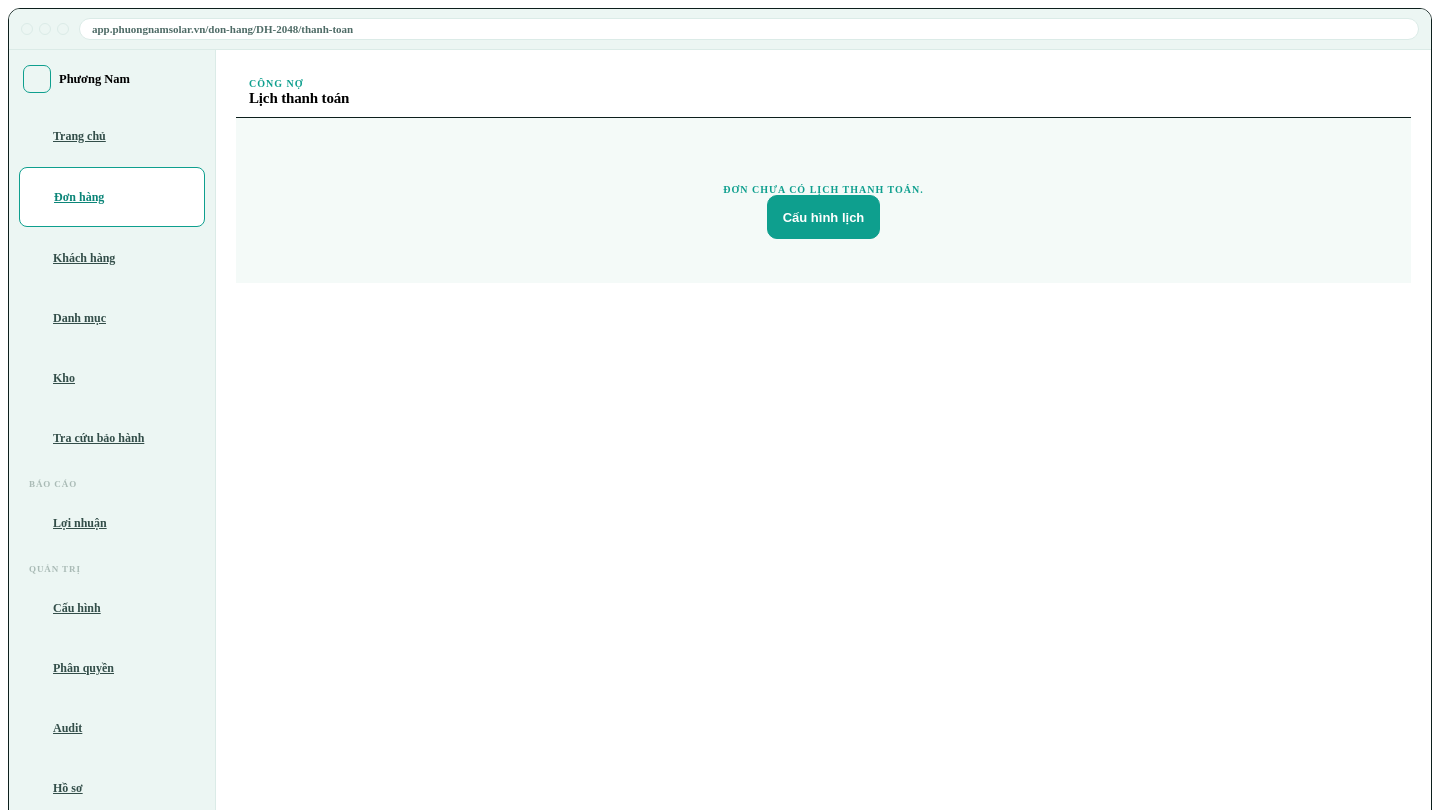
it: PaymentScheduleScreen — edit › a saved schedule that mismatches comes back with the warning banner
The width and height of the screenshot is (1440, 810).
Click the button "Cấu hình lịch".
click(824, 217)  # box [767,195,880,239]
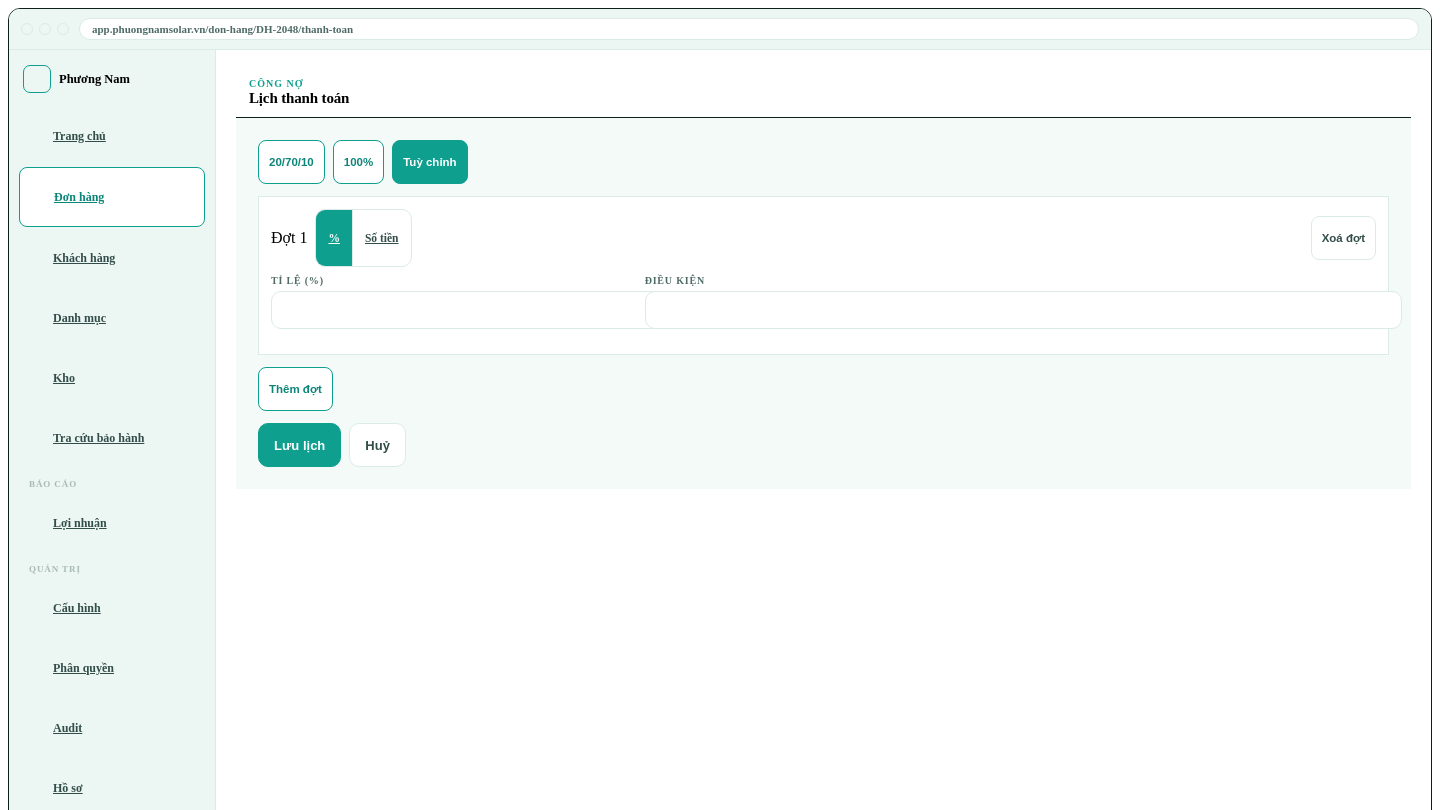
Click the button "20/70/10".
click(291, 162)  # box [258,140,325,184]
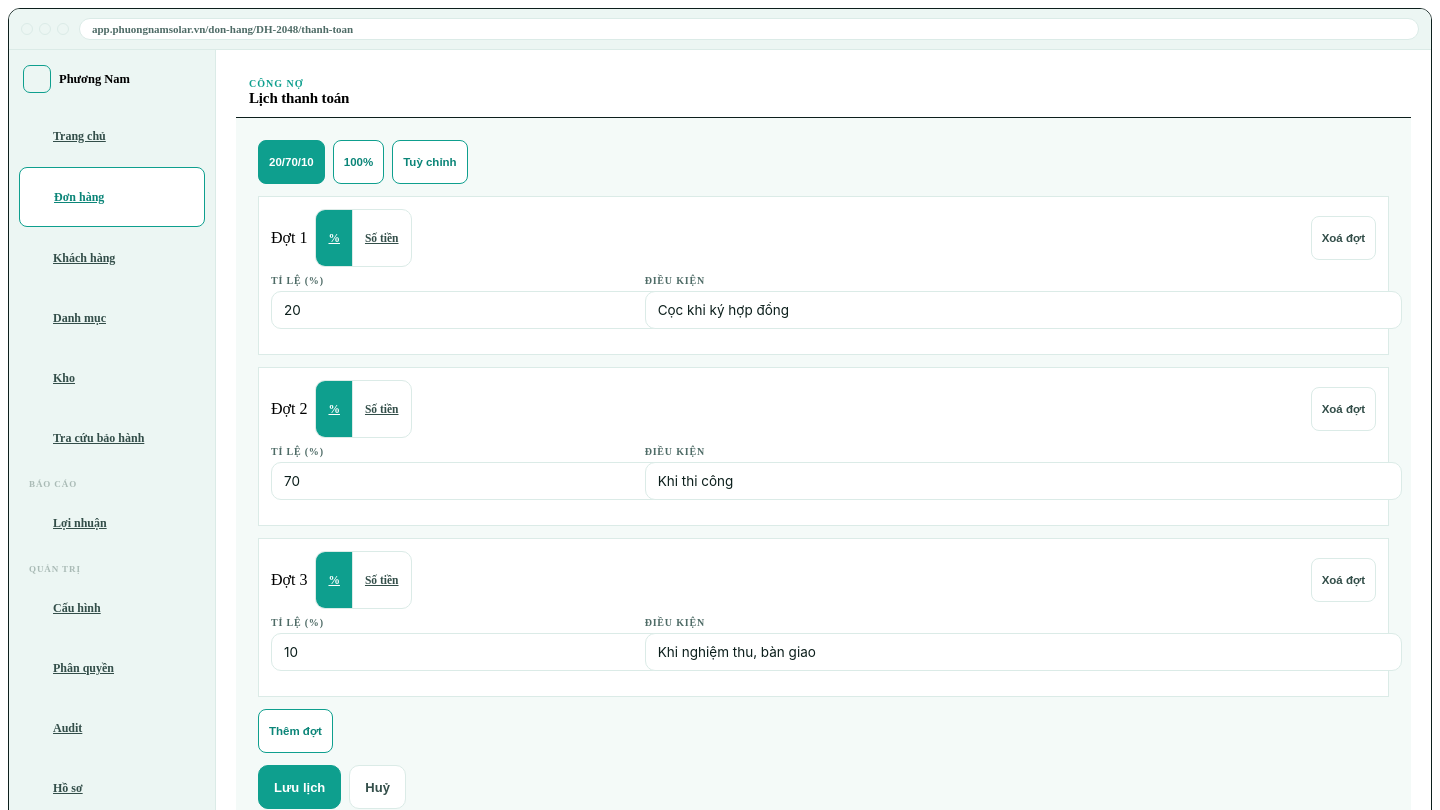
Click the button "Lưu lịch".
click(300, 787)  # box [258,765,341,809]
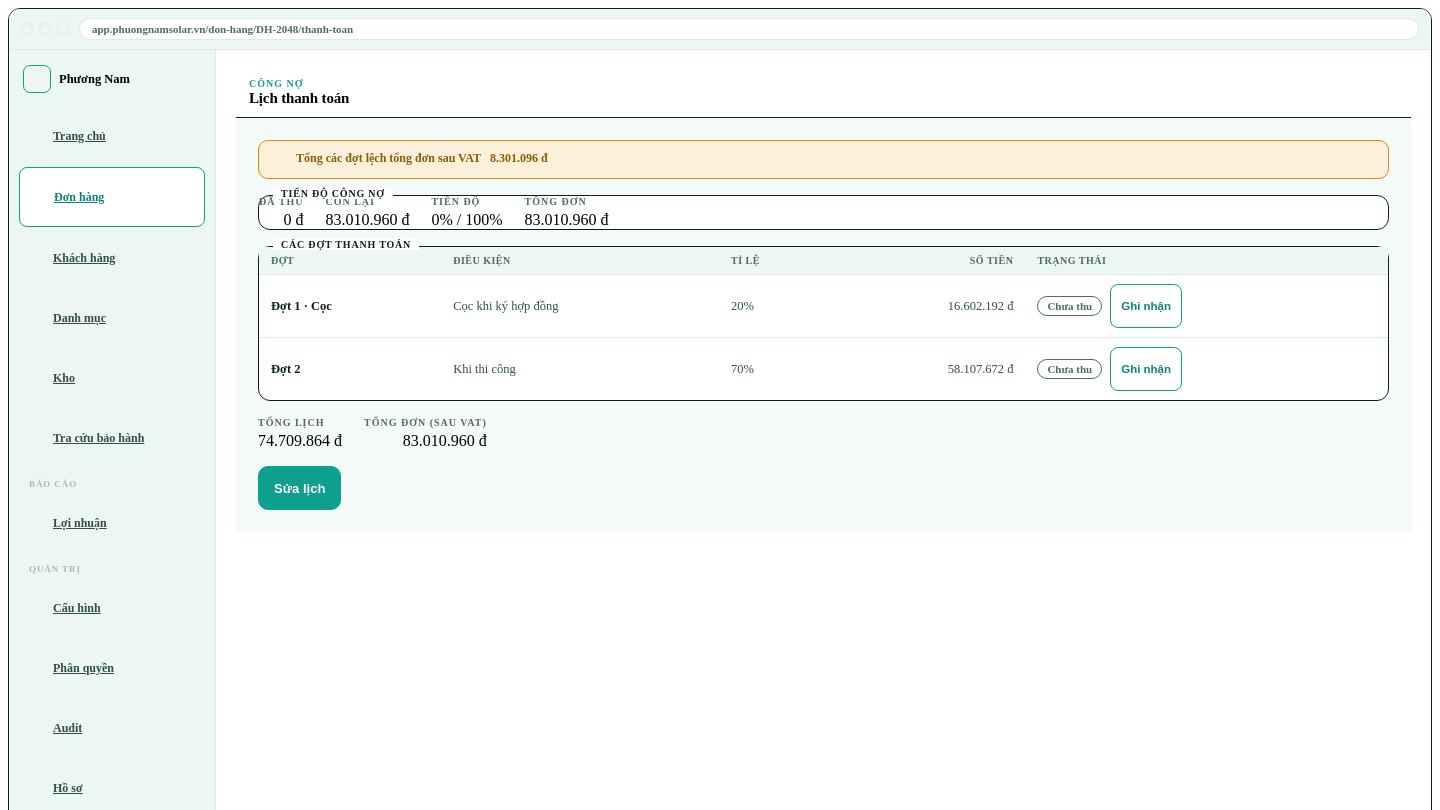
Expected: the message reads "Tổng các đợt lệch tổng đơn sau VAT 8.301.096 đ", [258,140,1389,179]
Expected: the button "Lưu lịch" is gone
